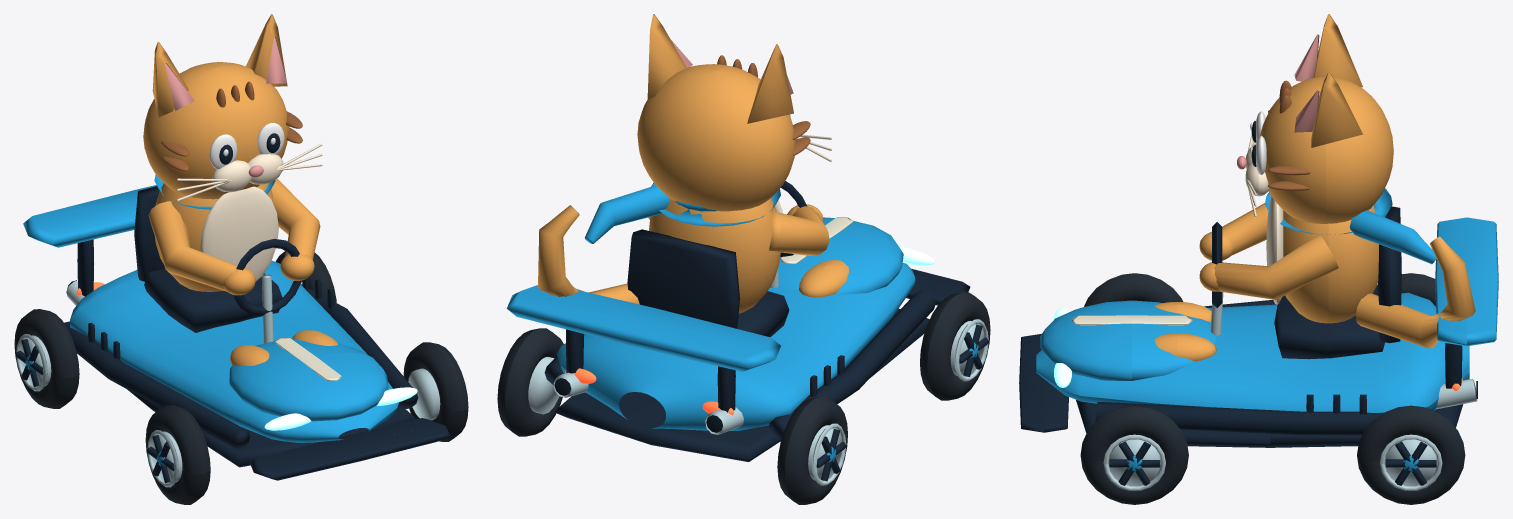
The model's file is original-kart.glb.
The picture shows the model from 3 angles, left to right: view 1: azimuth 30°, elevation 25°; view 2: azimuth 150°, elevation 25°; view 3: azimuth 270°, elevation 25°; orthographic projection. The views are drawn at different scales.
Parts seen in each view (by area): view 1: chassis_enamel_cat, driver_fur, chassis_graphite, driver_muzzle_belly, wheel_fl_spin_rubber, wheel_rl_spin_rubber, wheel_fr_spin_rubber, driver_ear_nose, driver_fur_stripe, driver_eye_glint, wheel_fr_spin_brushed_alloy, chassis_ice_headlamp (+7 smaller); view 2: chassis_enamel_cat, driver_fur, chassis_graphite, wheel_rl_spin_rubber, wheel_fl_spin_rubber, wheel_rr_spin_rubber, driver_enamel_cat, wheel_fl_spin_brushed_alloy, wheel_rl_spin_brushed_alloy, wheel_rr_spin_brushed_alloy, chassis_brushed_alloy, wheel_rl_spin_graphite (+2 smaller); view 3: chassis_enamel_cat, driver_fur, chassis_graphite, wheel_fr_spin_rubber, wheel_rr_spin_rubber, driver_enamel_cat, wheel_fl_spin_rubber, wheel_rr_spin_brushed_alloy, wheel_fr_spin_brushed_alloy, driver_muzzle_belly, driver_ear_nose, chassis_brushed_alloy (+6 smaller).
Boxes of the visible parts, box(x1,y1,x2,y2) form: chassis_enamel_cat: box(23, 185, 398, 442); driver_fur: box(143, 14, 337, 366); chassis_graphite: box(64, 186, 449, 480); driver_muzzle_belly: box(177, 143, 322, 281); wheel_fl_spin_rubber: box(145, 405, 210, 504); wheel_rl_spin_rubber: box(14, 309, 79, 408); wheel_fr_spin_rubber: box(403, 342, 468, 441); driver_ear_nose: box(165, 36, 287, 177); driver_fur_stripe: box(161, 81, 302, 171); driver_eye_glint: box(209, 122, 284, 169); wheel_fr_spin_brushed_alloy: box(408, 368, 440, 420); chassis_ice_headlamp: box(264, 387, 417, 430); chassis_enamel_cat: box(507, 217, 915, 430); driver_fur: box(538, 14, 848, 313); chassis_graphite: box(544, 181, 970, 461); wheel_rl_spin_rubber: box(777, 396, 847, 504); wheel_fl_spin_rubber: box(920, 292, 990, 400); wheel_rr_spin_rubber: box(497, 328, 563, 436); driver_enamel_cat: box(584, 182, 780, 243); wheel_fl_spin_brushed_alloy: box(950, 319, 988, 381); wheel_rl_spin_brushed_alloy: box(808, 423, 846, 485); wheel_rr_spin_brushed_alloy: box(528, 357, 559, 414); chassis_brushed_alloy: box(553, 268, 778, 434); wheel_rl_spin_graphite: box(816, 429, 846, 481); chassis_enamel_cat: box(1036, 217, 1498, 413); driver_fur: box(1154, 14, 1475, 361); chassis_graphite: box(1019, 206, 1463, 447); wheel_fr_spin_rubber: box(1080, 405, 1188, 504); wheel_rr_spin_rubber: box(1357, 405, 1465, 504); driver_enamel_cat: box(1265, 188, 1436, 264); wheel_fl_spin_rubber: box(1084, 273, 1183, 306); wheel_rr_spin_brushed_alloy: box(1380, 434, 1442, 490); wheel_fr_spin_brushed_alloy: box(1103, 434, 1165, 490); driver_muzzle_belly: box(1245, 120, 1283, 304); driver_ear_nose: box(1237, 34, 1319, 169); chassis_brushed_alloy: box(1210, 292, 1477, 409).
Size of the model in its own units: 1.36 by 1.64 by 1.81.
